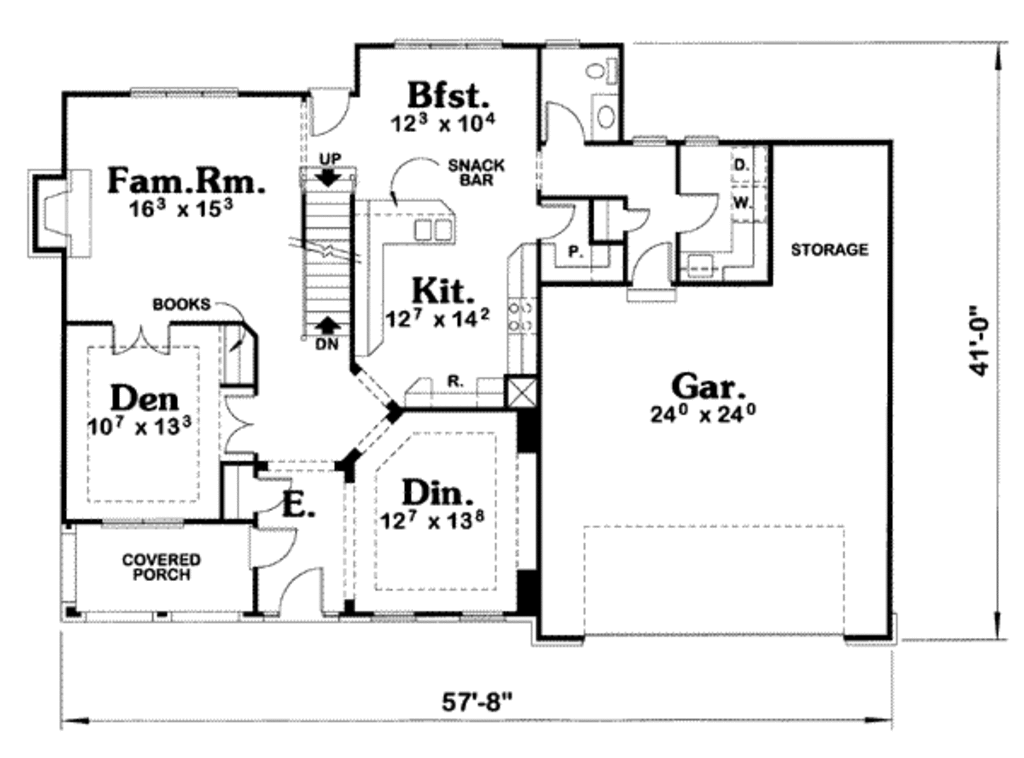door: (244, 515, 297, 573), (273, 567, 325, 624), (103, 320, 174, 360), (303, 85, 350, 139), (625, 243, 675, 293), (223, 390, 259, 459), (530, 195, 578, 243), (250, 473, 303, 511), (542, 101, 587, 144), (680, 187, 721, 233), (617, 207, 652, 230)
large_sink: (584, 53, 623, 90)
small_sink: (585, 90, 629, 150)
stairs: (292, 149, 357, 352)
window: (396, 34, 508, 61), (126, 81, 244, 105), (99, 510, 188, 536), (445, 605, 505, 626), (366, 606, 421, 626), (681, 131, 728, 152), (539, 35, 580, 55), (628, 133, 667, 154)
